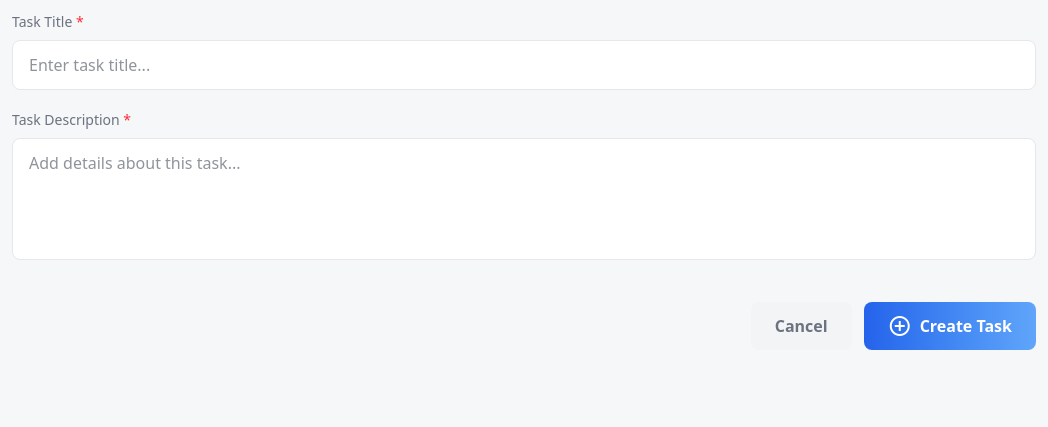
Test: TaskForm Component › should show validation errors when submitting empty form
Click the button "Create Task" at (950, 326), box [864,302,1036,350]
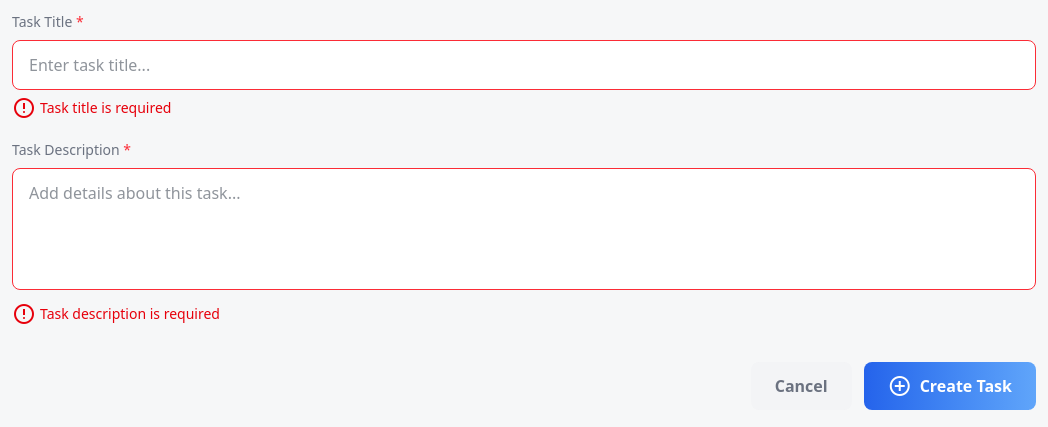
Now the text "Task title is required" is shown, box [12,94,172,122]
Now the text "Task description is required" is shown, box [12,300,220,328]
